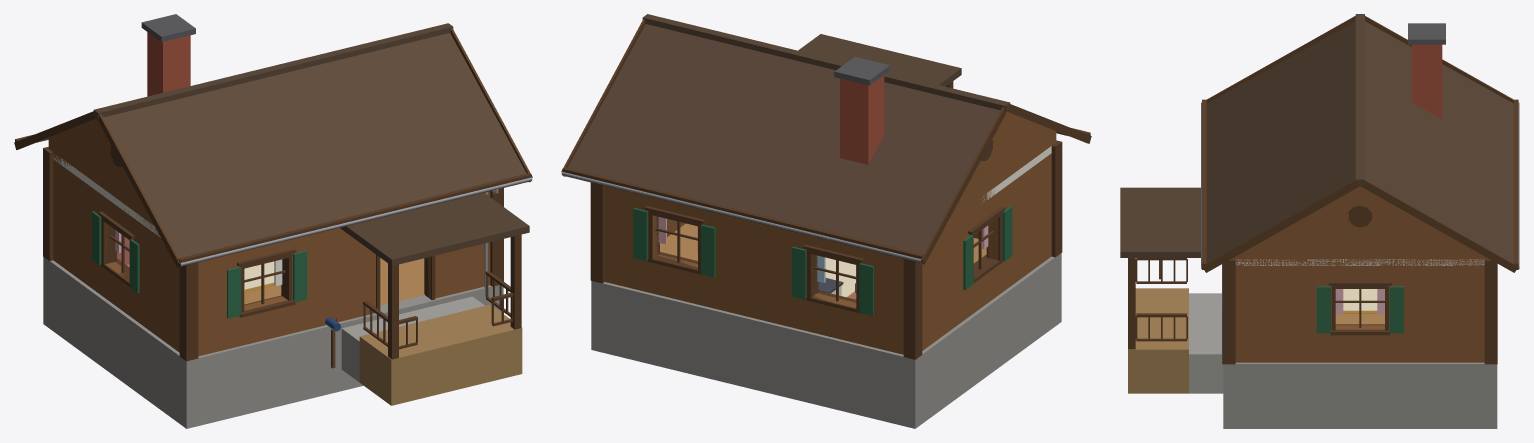
File: Cabin.glb
The picture shows the model from 3 angles, left to right: view 1: azimuth 30°, elevation 25°; view 2: azimuth 150°, elevation 25°; view 3: azimuth 270°, elevation 25°; orthographic projection. The views are drawn at different scales.
Visible parts, largest first — view 1: Cabin; view 2: Cabin; view 3: Cabin.
Part boxes in pixels (x1=…): Cabin: x1=14, y1=14, x2=532, y2=428; Cabin: x1=561, y1=14, x2=1091, y2=428; Cabin: x1=1120, y1=14, x2=1519, y2=428.
Bounding box in the file's own units: 10.3 × 8.43 × 10.48.
